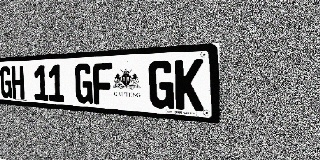1: (48, 64, 64, 102), (34, 65, 48, 101)
F: (93, 62, 113, 105)
G: (148, 60, 174, 109), (75, 63, 93, 104), (0, 66, 12, 99)
H: (11, 66, 24, 99)
K: (175, 59, 204, 111)
